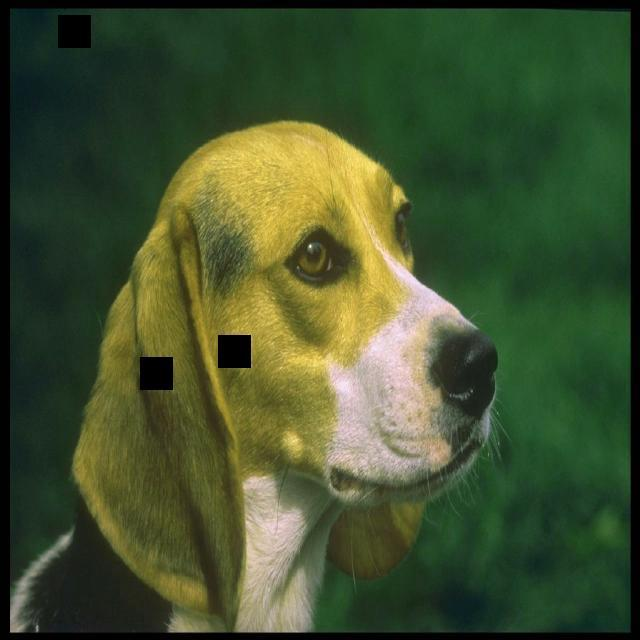adult_dog: (8, 116, 506, 632)
